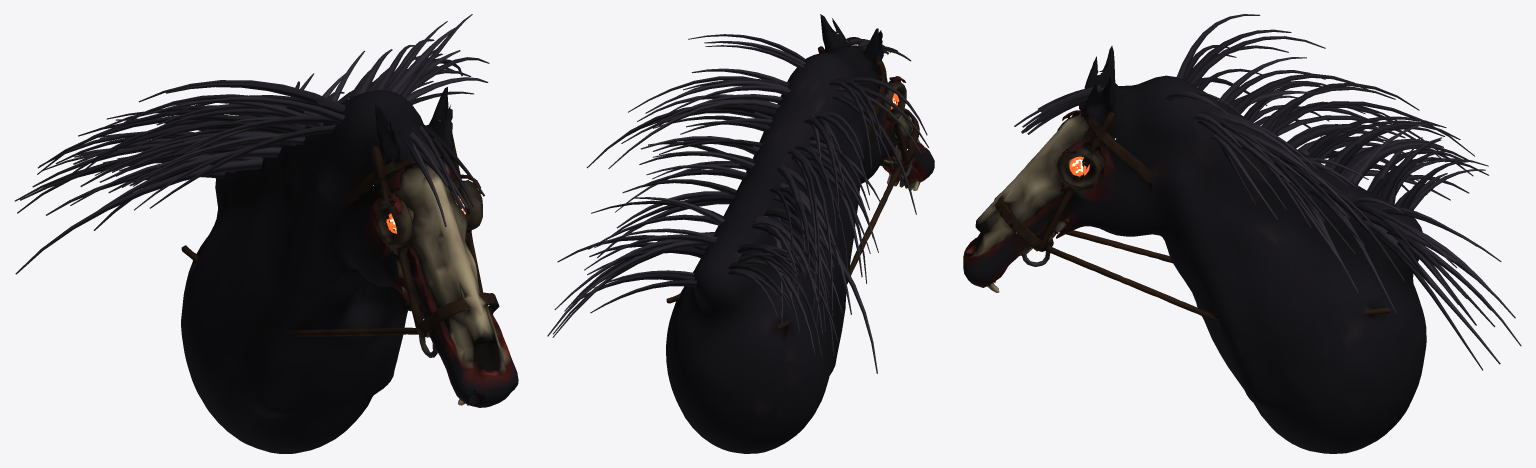
Rendered from hm_hneck.glb.
3 views of the same model, side by side, from view 1: azimuth 30°, elevation 25°; view 2: azimuth 150°, elevation 25°; view 3: azimuth 270°, elevation 25° (orthographic). The views are drawn at different scales.
Parts seen in each view (by area): view 1: hm_hneck; view 2: hm_hneck; view 3: hm_hneck.
Boxes of the visible parts, x1,y1,x2,y2 form: hm_hneck: (14, 14, 518, 453); hm_hneck: (547, 14, 934, 453); hm_hneck: (963, 14, 1521, 453).
Size of the model in its own units: 1.18 by 1.23 by 1.61.
